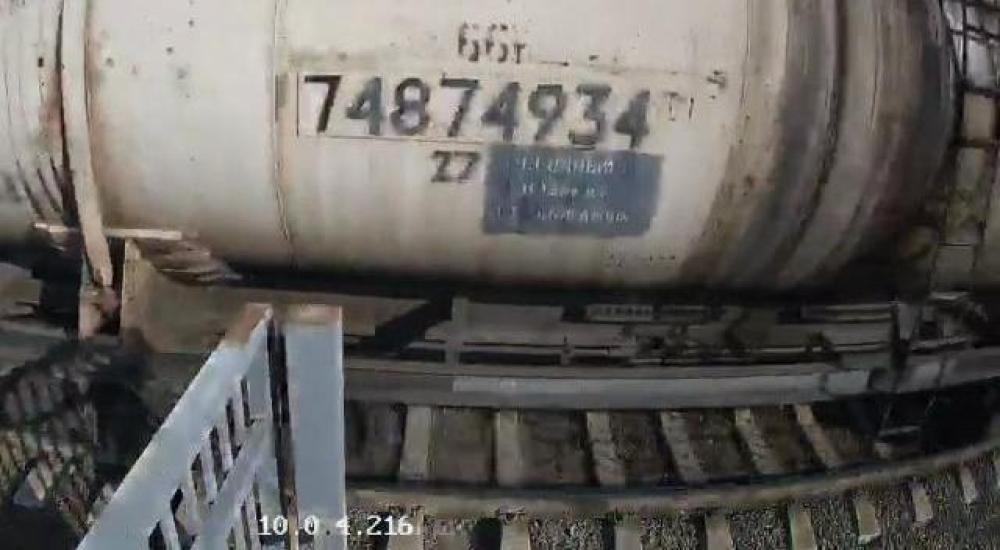Wagon-number: (300, 70, 656, 151)
